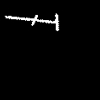double_crochet: (5, 14, 58, 30)
